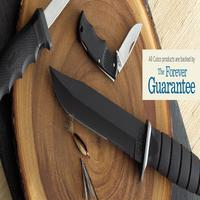knife: (42, 63, 199, 187), (3, 1, 70, 106), (72, 10, 142, 82)
